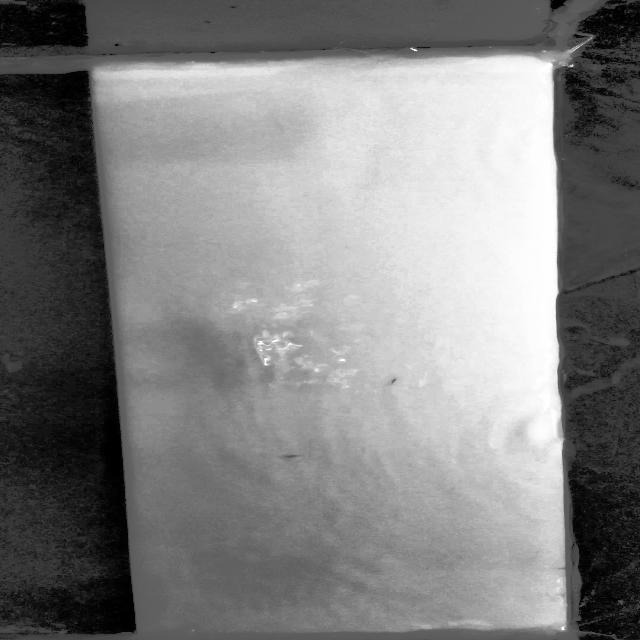shrimp: (379, 370, 406, 391), (273, 452, 315, 463)
